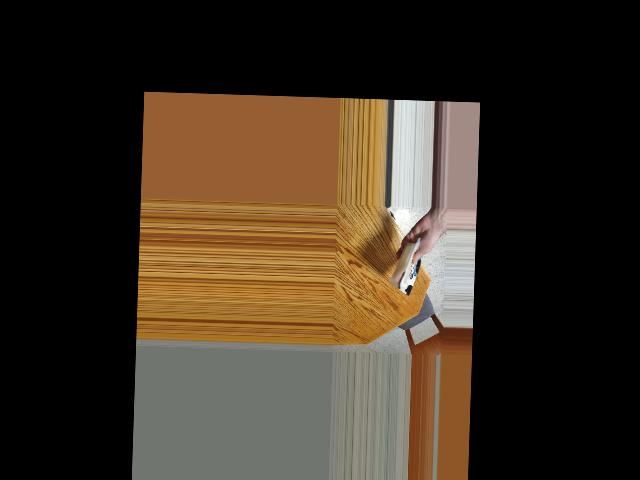cheese: (387, 241, 431, 293)
